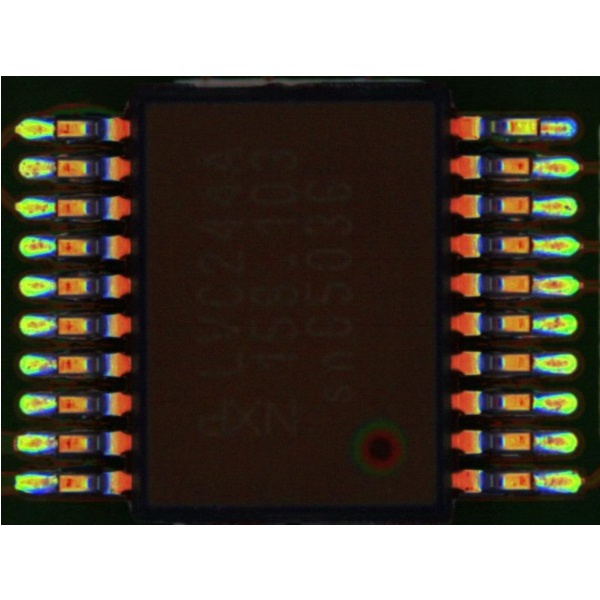Bad_podu: (525, 123, 551, 132)
